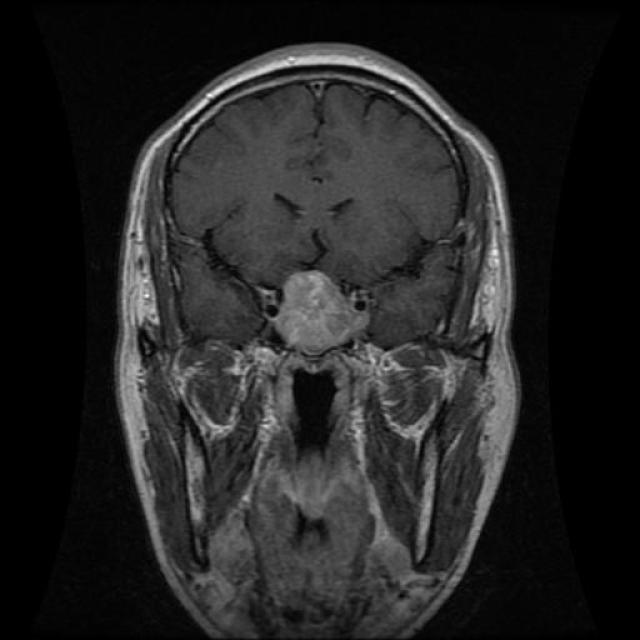pituitary: (258, 264, 378, 359)
